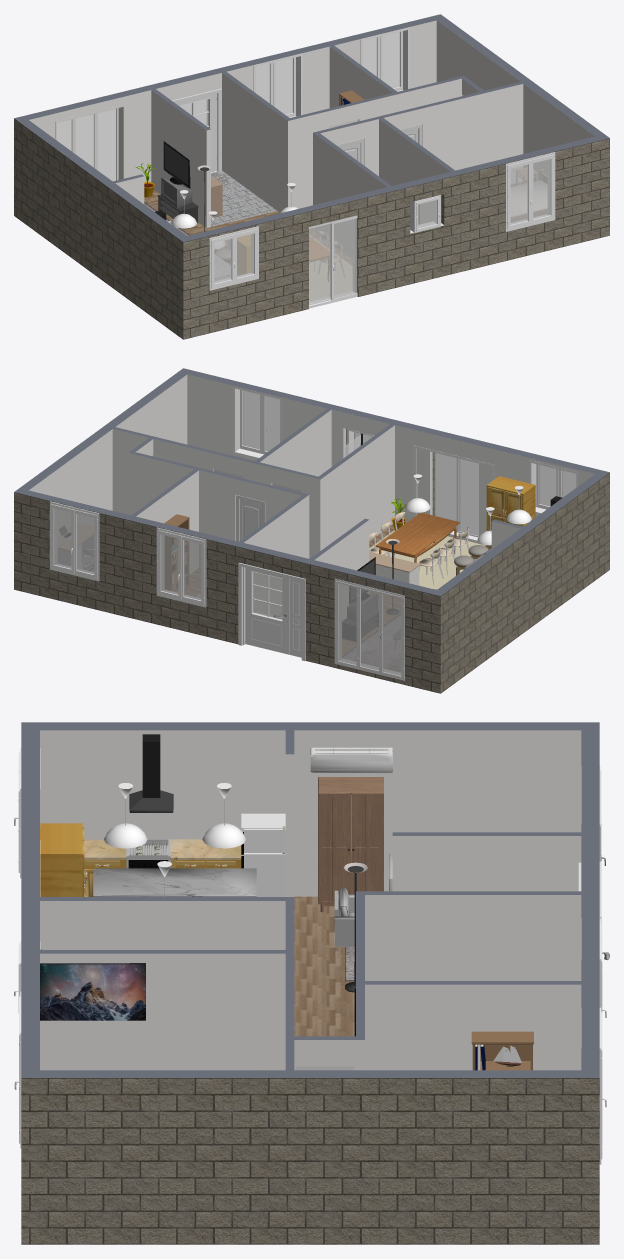
File: maison-rdc.glb
3 views of the same model, one above another, from view 1: azimuth 30°, elevation 25°; view 2: azimuth 150°, elevation 25°; view 3: azimuth 270°, elevation 25° (orthographic). The views are drawn at different scales.
Visible parts, largest first — view 1: wall_0_3, wall_0_2, wall_0_5, p20_sweethome3d_window_pane_on_hinge_1_55, p20_frame_49, p1_9, room_1_2, p0_frame_door_Cube_1, p46_bottom_317, p1_11, room_0_1, p65_Matelas_707 (+7 smaller); view 2: wall_0_2, wall_0_3, wall_0_5, p20_sweethome3d_window_pane_on_hinge_1_55, p20_frame_49, p0_frame_door_Cube_1, p1_9, p5_Table_12_19, p10_PolyMesh_4_47, p46_bottom_317, p30_bottom_179, p16_Door_018_25 (+11 smaller); view 3: wall_0_2, wall_0_3, wall_0_5, p3_Wardrobe_031_2, room_0_1, p75_Tech_items_072_29732_816, p4_Kitchen_island_30_8, p10_PolyMesh_4_47, p14_Fridge_136, p27_Sphere_160, p20_frame_49, p2_Climate_045_1 (+6 smaller).
Part boxes in pixels (x1,y1,x2,y2): wall_0_3: (14, 118, 609, 339); wall_0_2: (29, 20, 594, 291); wall_0_5: (14, 14, 609, 241); p20_sweethome3d_window_pane_on_hinge_1_55: (214, 32, 550, 303); p20_frame_49: (209, 27, 555, 308); p1_9: (57, 109, 116, 181); room_1_2: (211, 170, 276, 226); p0_frame_door_Cube_1: (71, 88, 221, 172); p46_bottom_317: (309, 234, 352, 300); p1_11: (55, 104, 125, 180); room_0_1: (144, 182, 522, 264); p65_Matelas_707: (511, 180, 547, 216); wall_0_2: (29, 374, 594, 620); wall_0_3: (14, 429, 609, 693); wall_0_5: (14, 368, 609, 595); p20_sweethome3d_window_pane_on_hinge_1_55: (54, 390, 576, 600); p20_frame_49: (49, 386, 578, 607); p0_frame_door_Cube_1: (238, 562, 404, 680); p1_9: (338, 583, 401, 675); p5_Table_12_19: (375, 512, 460, 562); p10_PolyMesh_4_47: (486, 476, 535, 549); p46_bottom_317: (369, 530, 485, 589); p30_bottom_179: (342, 614, 400, 671); p16_Door_018_25: (152, 455, 301, 541); wall_0_2: (40, 730, 581, 1070); wall_0_3: (21, 1078, 599, 1244); wall_0_5: (21, 722, 599, 1077); p3_Wardrobe_031_2: (318, 777, 383, 912); room_0_1: (294, 896, 354, 1036); p75_Tech_items_072_29732_816: (40, 964, 145, 1020); p4_Kitchen_island_30_8: (93, 868, 256, 896); p10_PolyMesh_4_47: (40, 823, 241, 896); p14_Fridge_136: (241, 813, 285, 896); p27_Sphere_160: (103, 783, 521, 1070); p20_frame_49: (14, 748, 606, 1164); p2_Climate_045_1: (310, 747, 392, 773).
Bounding box in the file's own units: 1144 × 250 × 811.
Materials: 85 (21 with a texture image).
